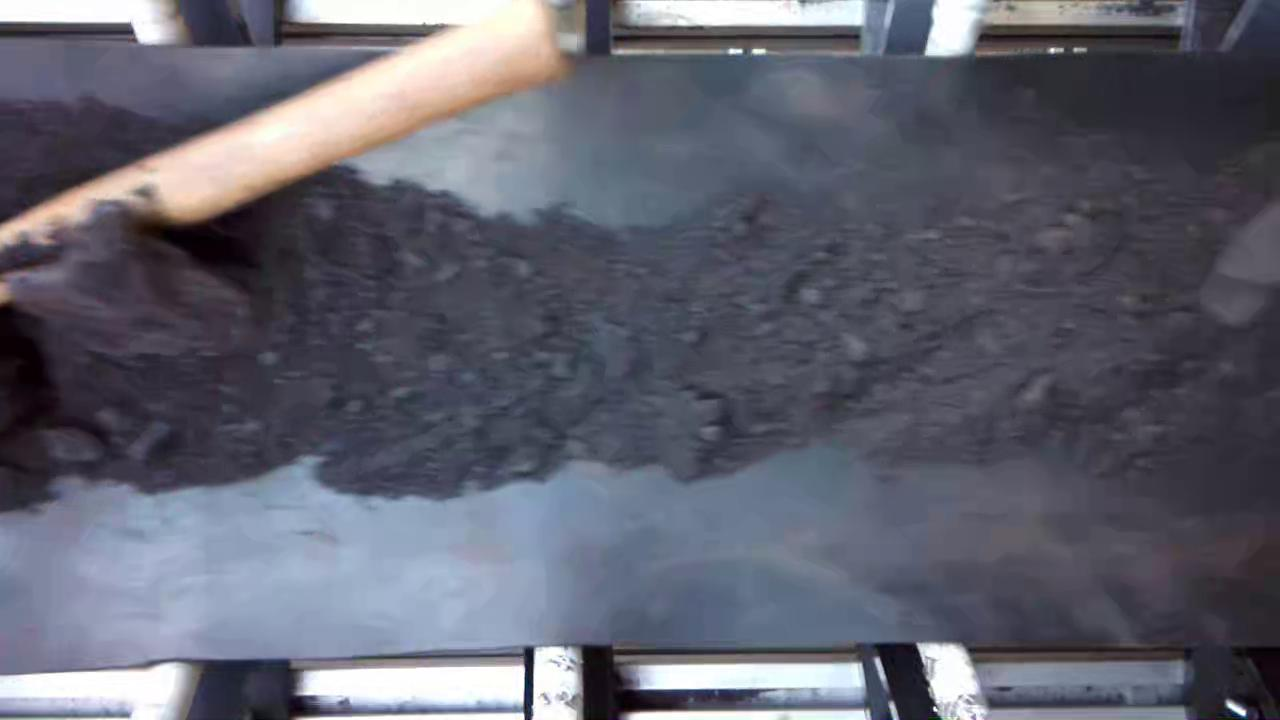conveyor: (0, 59, 1280, 641)
